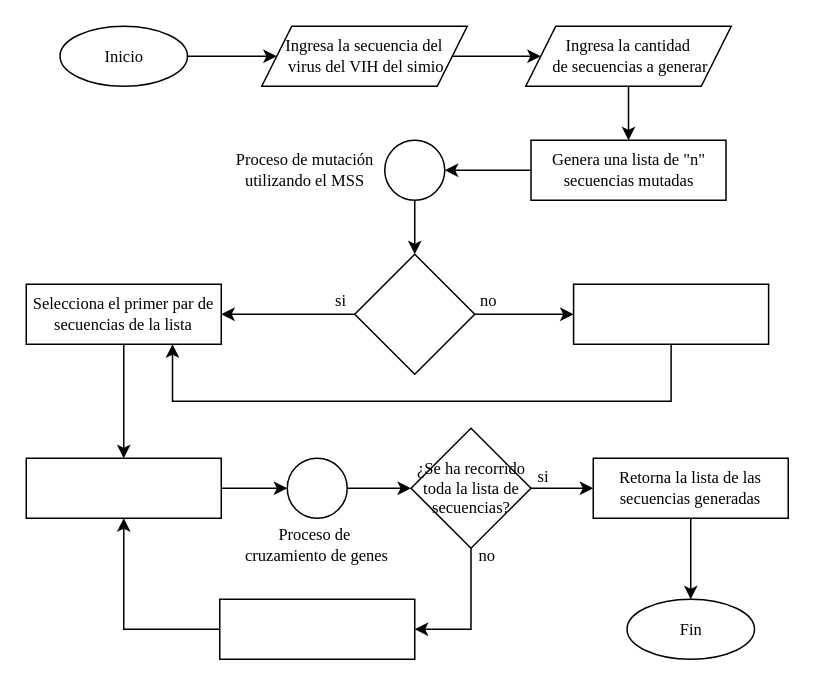
Image size: 815x686. Some labels were removed from this diagram. The shapes that lost their labels are listed below. From the top down, each one's centre as x and y in pixels, then its label:
At [414,313]: "¿La cantidad de secuencias de la lista es par?".
At [670,313]: "Se empareja la última secuencia con la primera secuencia".
At [123,487]: "Realiza el cruzamiento de genes entre las dos secuencias".
At [316,628]: "Selecciona el siguiente par de secuencias de la lista".
